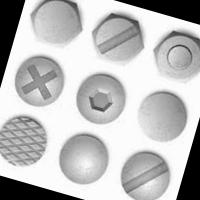screw: (23, 0, 89, 53)
